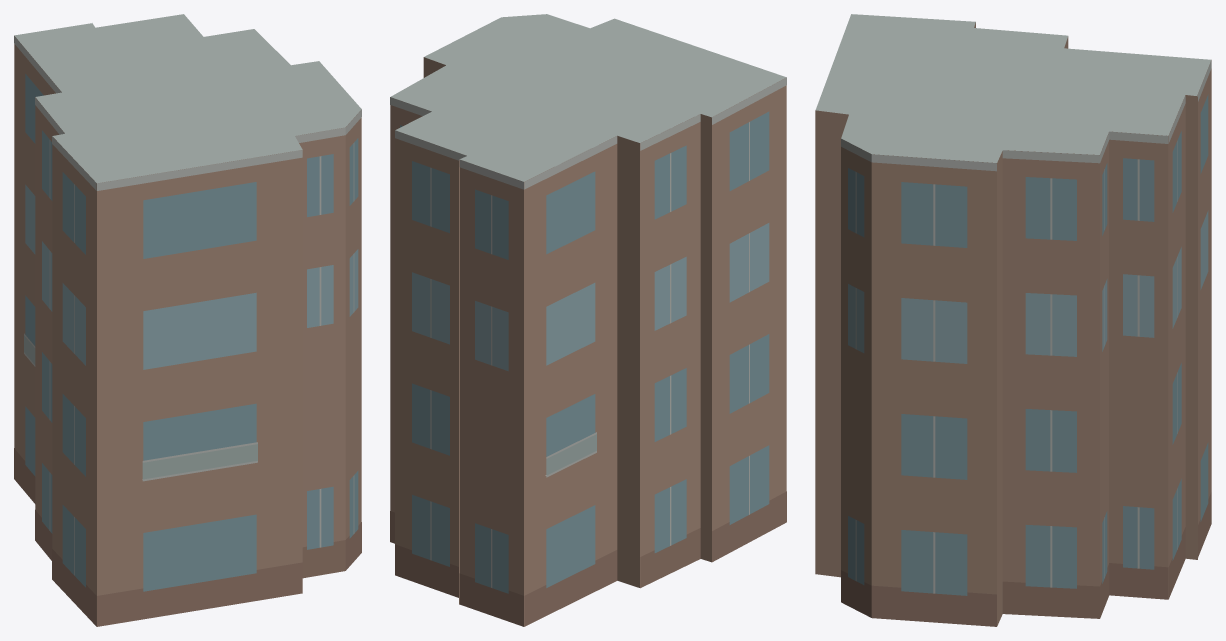
File: survey-upis-32491100.glb
The picture shows the model from 3 angles, left to right: view 1: azimuth 30°, elevation 25°; view 2: azimuth 150°, elevation 25°; view 3: azimuth 270°, elevation 25°; orthographic projection. The views are drawn at different scales.
Parts seen in each view (by area): view 1: survey-upis-32491100.tmp; view 2: survey-upis-32491100.tmp; view 3: survey-upis-32491100.tmp.
Boxes of the visible parts, bbox=[...] form: survey-upis-32491100.tmp: bbox=[14, 14, 361, 626]; survey-upis-32491100.tmp: bbox=[390, 14, 786, 626]; survey-upis-32491100.tmp: bbox=[815, 14, 1211, 626].
Bounding box in the file's own units: 9.52 × 13.8 × 10.69.
